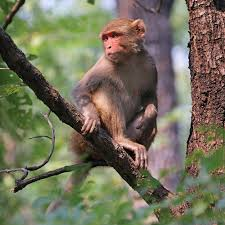monkey: (28, 13, 197, 182)
